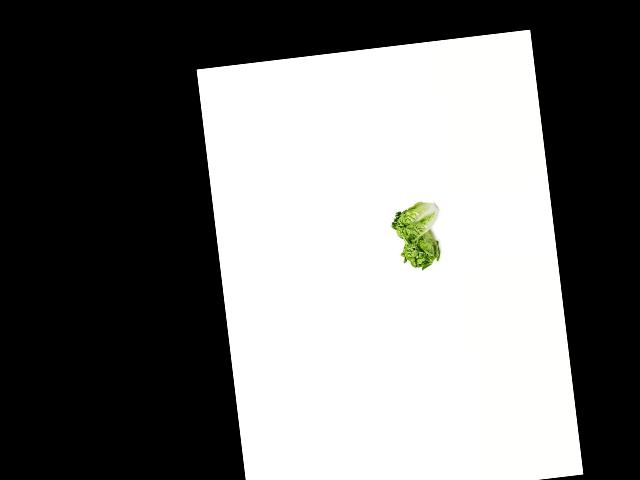lettuce: (397, 224, 447, 272)
